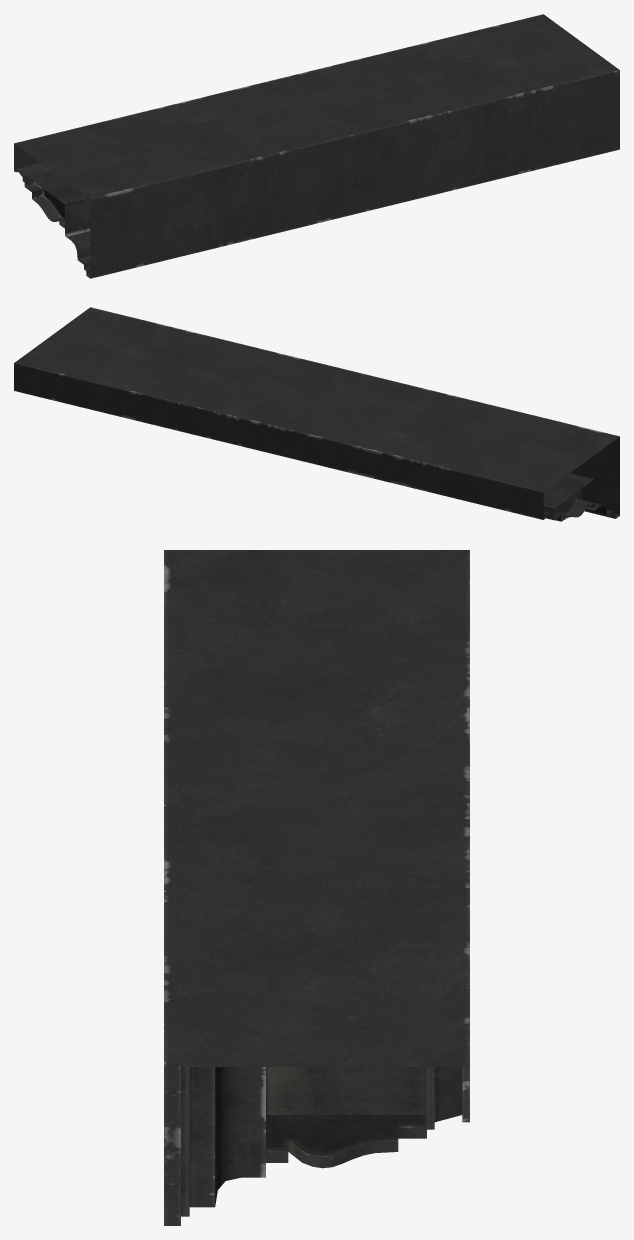
The model's file is crown_standard_standard_01.gltf.
The picture shows the model from 3 angles, top to bottom: view 1: azimuth 30°, elevation 25°; view 2: azimuth 150°, elevation 25°; view 3: azimuth 270°, elevation 25°; orthographic projection. The views are drawn at different scales.
Parts seen in each view (by area): view 1: crown_standard_standard_01; view 2: crown_standard_standard_01; view 3: crown_standard_standard_01.
Boxes of the visible parts, bbox=[...] form: crown_standard_standard_01: bbox=[14, 14, 619, 278]; crown_standard_standard_01: bbox=[14, 307, 619, 521]; crown_standard_standard_01: bbox=[164, 550, 469, 1225].
Size of the model in its own units: 3 by 0.43 by 0.75.
Materials: 1 (1 with a texture image).
